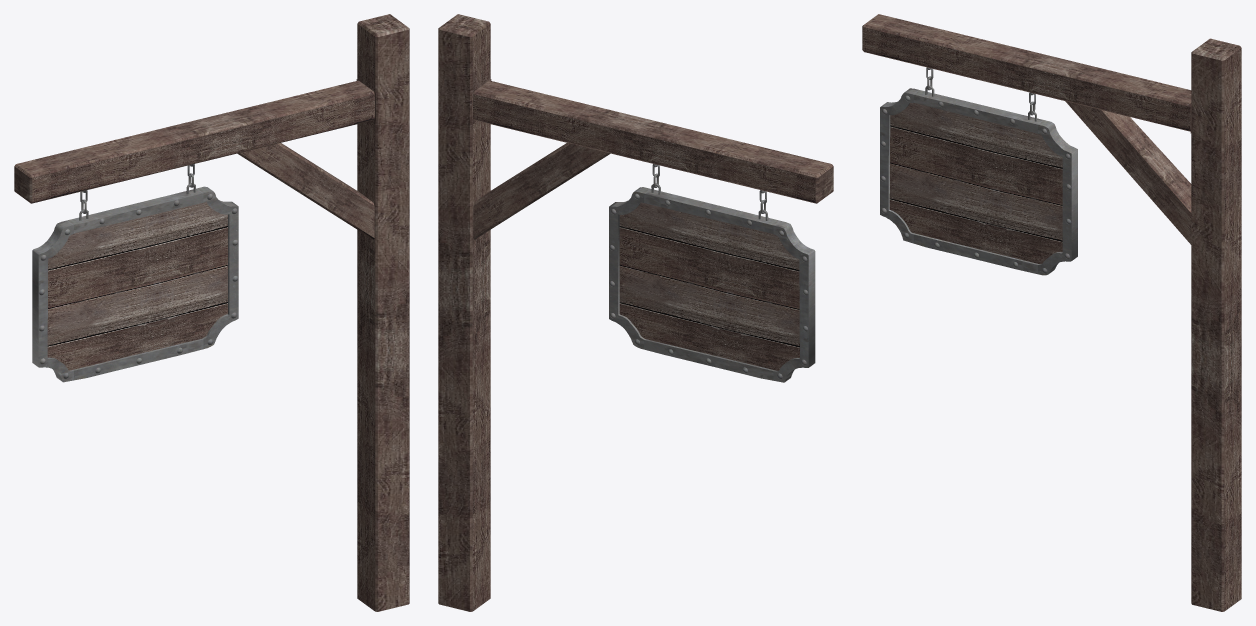
The model's file is Placa01.obj.
3 views of the same model, side by side, from view 1: azimuth 30°, elevation 25°; view 2: azimuth 150°, elevation 25°; view 3: azimuth 330°, elevation 25° (orthographic). The views are drawn at different scales.
Parts seen in each view (by area): view 1: BaseV; view 2: BaseV; view 3: BaseV.
Boxes of the visible parts, x1,y1,x2,y2 form: BaseV: [14, 14, 409, 611]; BaseV: [438, 14, 833, 611]; BaseV: [862, 14, 1241, 611].
Bounding box in the file's own units: 110 × 160 × 10.
